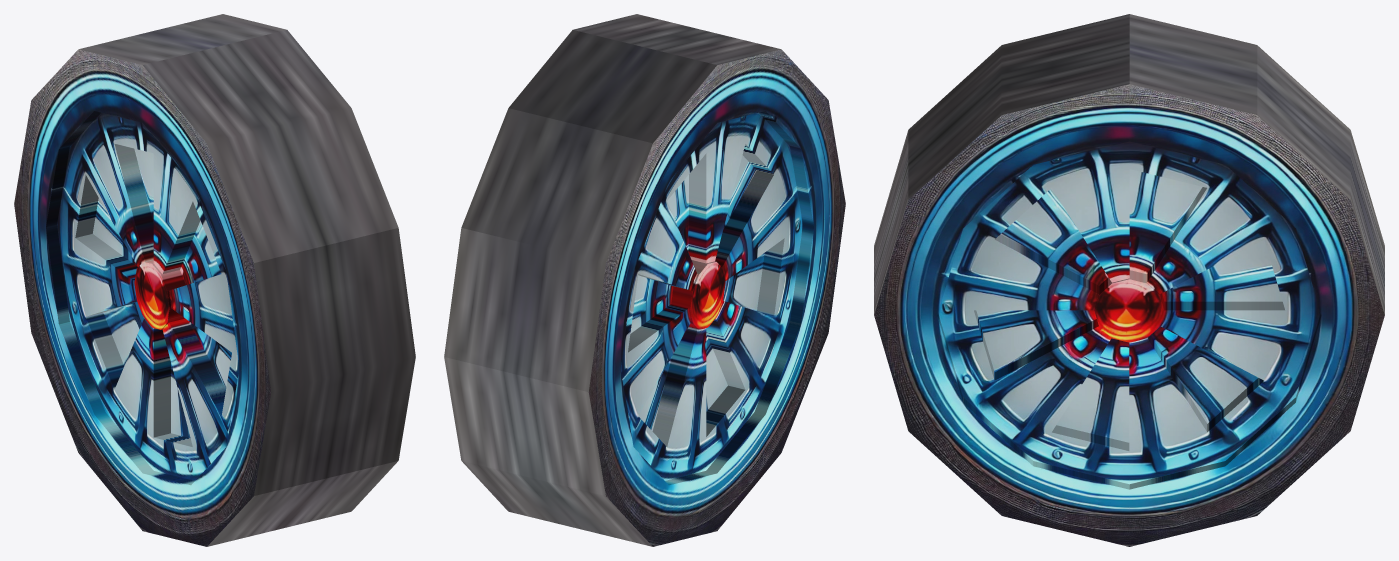
Rendered from Llanta3Carro_obj.obj.
3 views of the same model, side by side, from view 1: azimuth 30°, elevation 25°; view 2: azimuth 150°, elevation 25°; view 3: azimuth 270°, elevation 25° (orthographic).
Parts seen in each view (by area): view 1: Llanta_3; view 2: Llanta_3; view 3: Llanta_3.
Part boxes in pixels (x1,y1,x2,y2): Llanta_3: (14,14,415,546); Llanta_3: (444,14,845,546); Llanta_3: (874,14,1384,546).
Size of the model in its own units: 5.12 by 15.75 by 15.75.
